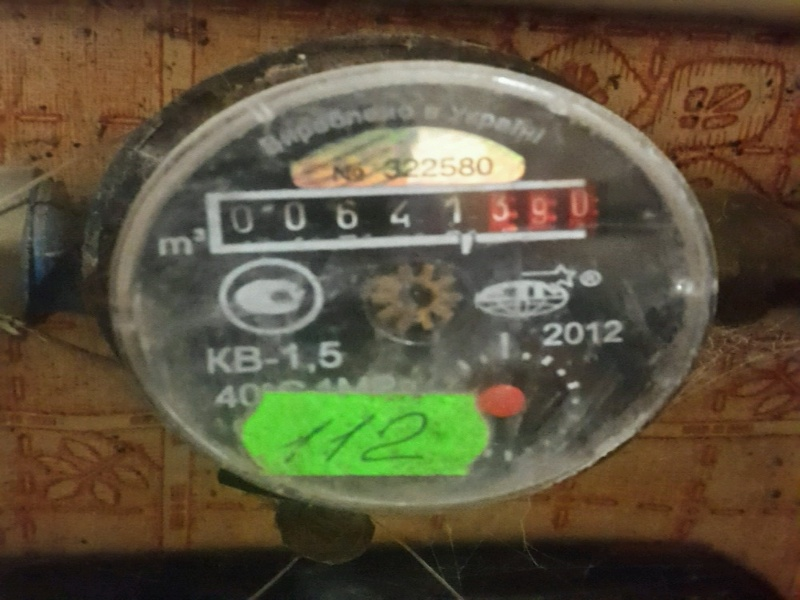meter: (207, 189, 592, 236)
